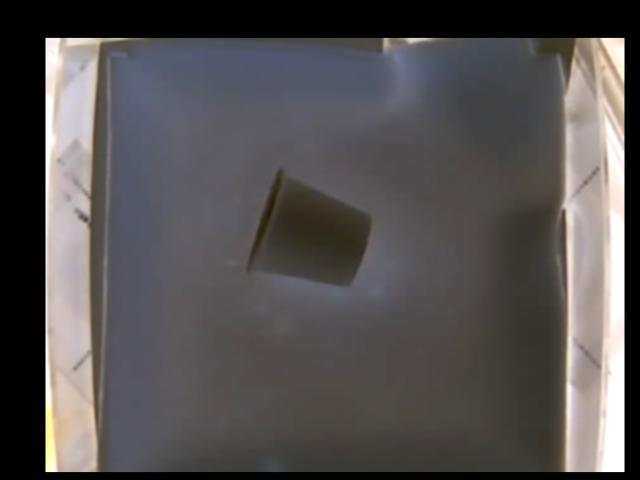Cup: (248, 168, 373, 286)
